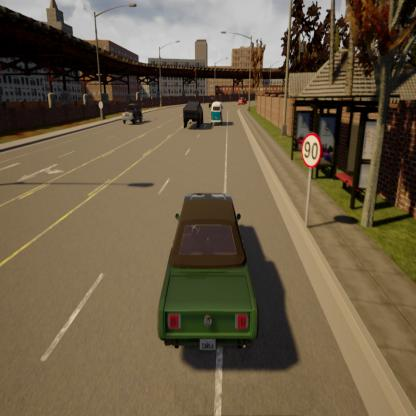Cars: (157, 196, 258, 354), (183, 102, 204, 128), (121, 106, 144, 127), (210, 98, 224, 124), (237, 93, 246, 109)
